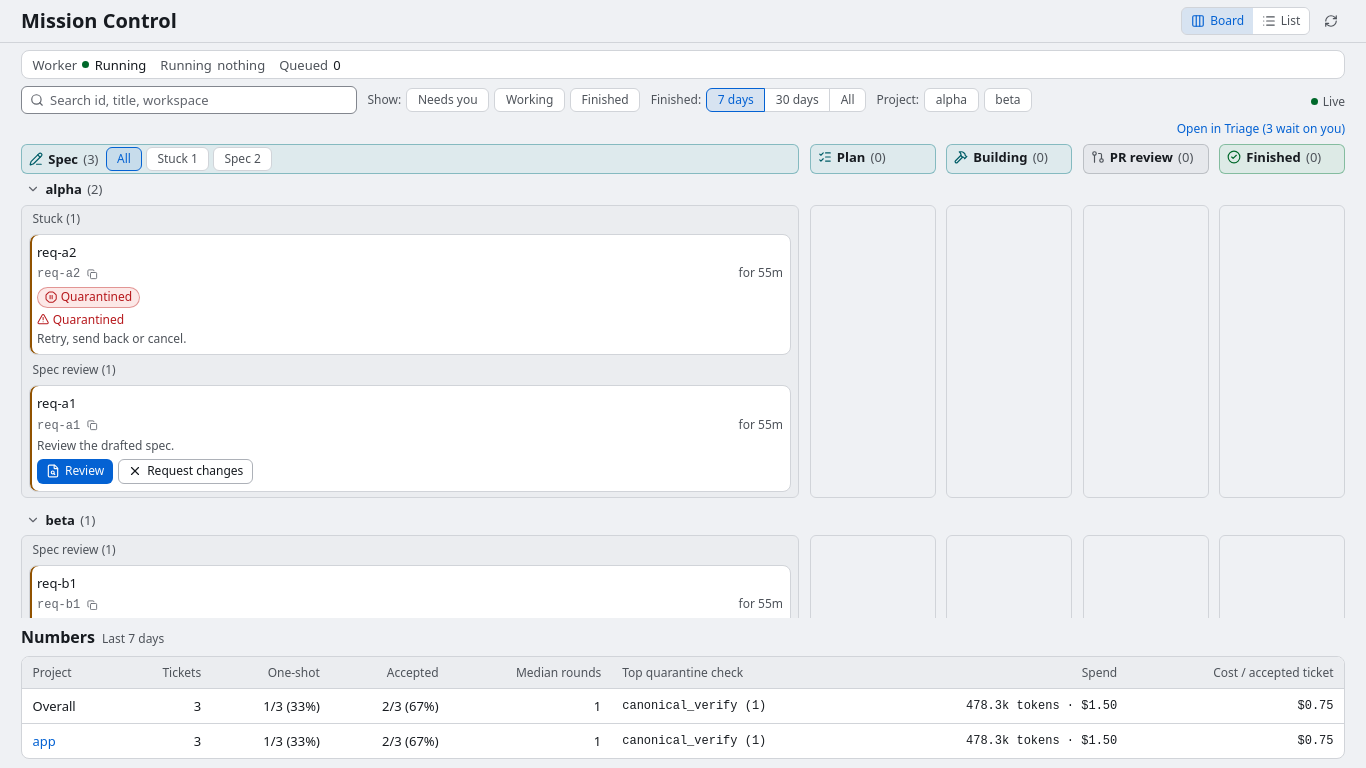
Test case: groups inside a column › with project lanes each lane's cell has its own groups, under the lane's heading level
expect the 2nd heading "Spec review (1)" is shown: met, box [32,540,116,558]
expect the heading "Spec (3)" is shown: met, box [29,149,98,169]
Note: Folding a lane still takes its groups out of view, and says what waits in it.
Click the button "alpha (2)" at {"x": 64, "y": 189}, box [21,178,108,201]
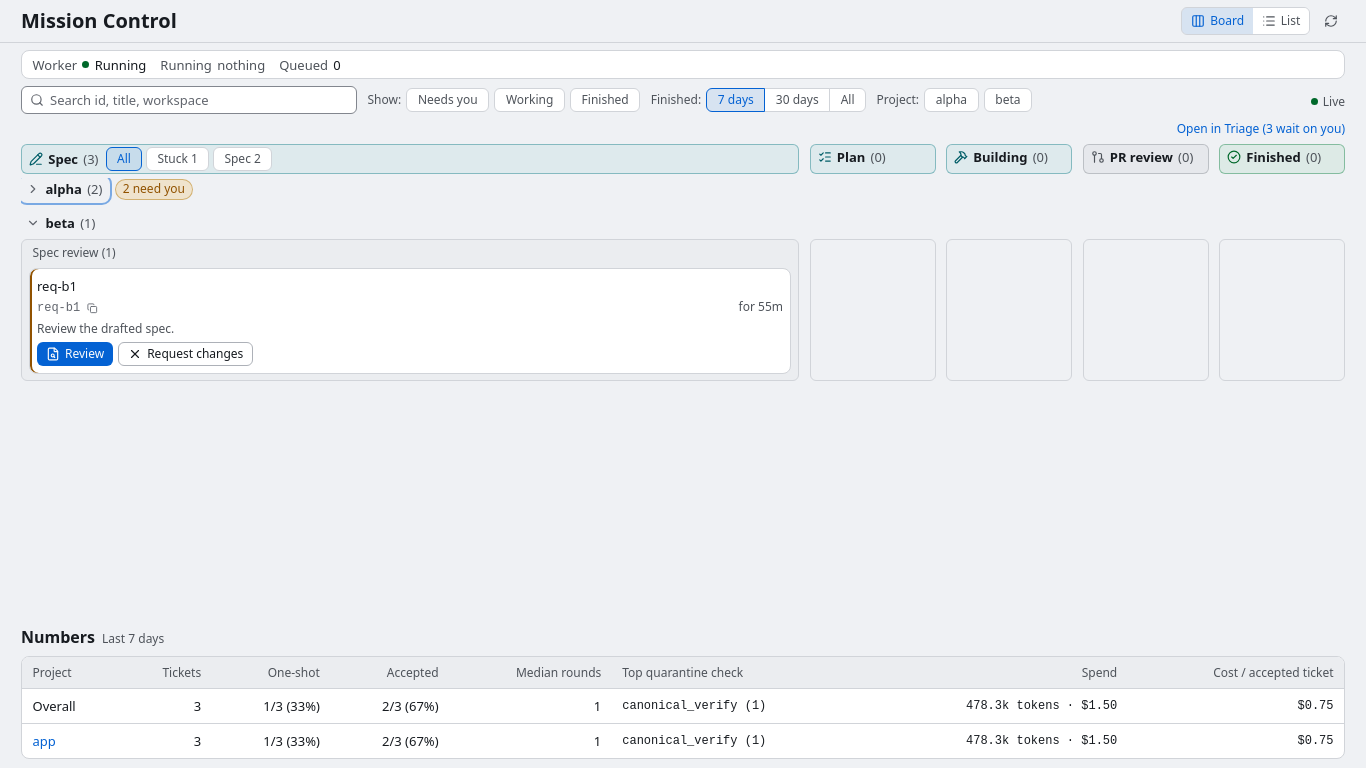
expect the text with test id "lane-needs-you" reads "2 need you": met, box [123,180,185,197]
